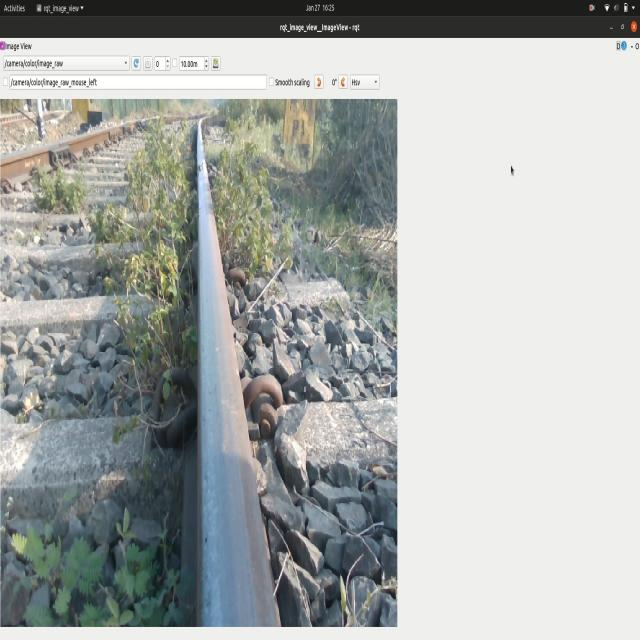overrailed: (235, 372, 303, 472)
